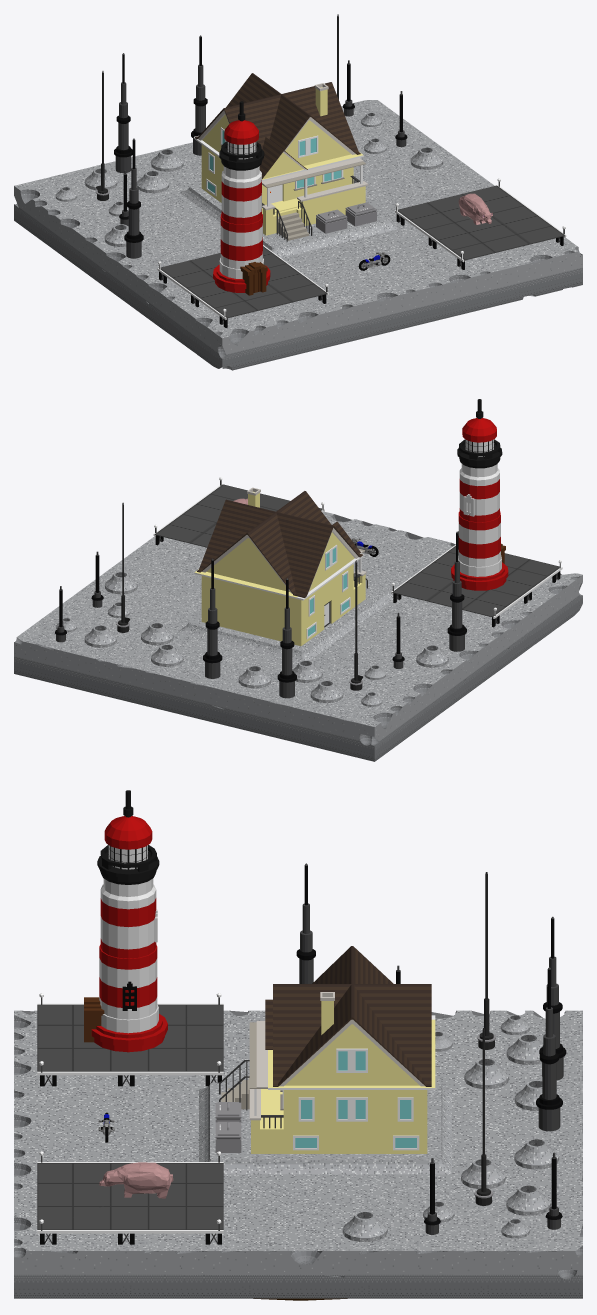
3 renders of one model, top to bottom at view 1: azimuth 30°, elevation 25°; view 2: azimuth 150°, elevation 25°; view 3: azimuth 270°, elevation 25°, orthographic. The views are drawn at different scales.
Parts seen in each view (by area): view 1: Cube.027, Cube.1555, OBJRANDOM_LIGHTHOUSE, Cube.026, Cube.025, Cube.028, Cylinder.021, Cylinder.020, Cylinder.017, ANIMAL_HIPOPOTAMO, Cube.029, Cube.030 (+4 smaller); view 2: Cube.027, Cube.1555, OBJRANDOM_LIGHTHOUSE, Cube.025, Cube.028, Cube.026, Cylinder.020, Cylinder.021, Cylinder.017, Cylinder.027, Cylinder.028, Cylinder.030 (+6 smaller); view 3: Cube.027, Cube.1555, OBJRANDOM_LIGHTHOUSE, Cube.026, Cube.025, Cube.028, Cylinder.017, ANIMAL_HIPOPOTAMO, Cylinder.020, Cylinder.021, Cylinder.031, Cylinder.033 (+7 smaller).
Part boxes in pixels (x1=…): Cube.027: x1=14, y1=100, x2=582, y2=370; Cube.1555: x1=193, y1=73, x2=368, y2=241; OBJRANDOM_LIGHTHOUSE: x1=213, y1=101, x2=270, y2=295; Cube.026: x1=395, y1=178, x2=566, y2=269; Cube.025: x1=157, y1=237, x2=328, y2=327; Cube.028: x1=180, y1=183, x2=398, y2=257; Cylinder.021: x1=124, y1=138, x2=143, y2=258; Cylinder.020: x1=114, y1=53, x2=132, y2=173; Cylinder.017: x1=191, y1=35, x2=207, y2=155; ANIMAL_HIPOPOTAMO: x1=458, y1=193, x2=492, y2=224; Cube.029: x1=316, y1=209, x2=347, y2=233; Cube.030: x1=345, y1=202, x2=376, y2=226; Cube.027: x1=14, y1=511, x2=582, y2=761; Cube.1555: x1=194, y1=487, x2=367, y2=645; OBJRANDOM_LIGHTHOUSE: x1=451, y1=399, x2=508, y2=590; Cube.025: x1=391, y1=544, x2=562, y2=627; Cube.028: x1=178, y1=584, x2=393, y2=661; Cube.026: x1=153, y1=477, x2=324, y2=547; Cylinder.020: x1=277, y1=578, x2=296, y2=698; Cylinder.021: x1=447, y1=531, x2=466, y2=651; Cylinder.017: x1=203, y1=558, x2=222, y2=678; Cylinder.027: x1=238, y1=665, x2=271, y2=688; Cylinder.028: x1=310, y1=680, x2=343, y2=703; Cylinder.030: x1=141, y1=622, x2=173, y2=645; Cube.027: x1=14, y1=1010, x2=582, y2=1298; Cube.1555: x1=219, y1=946, x2=435, y2=1153; OBJRANDOM_LIGHTHOUSE: x1=84, y1=790, x2=167, y2=1052; Cube.026: x1=37, y1=1151, x2=223, y2=1244; Cube.025: x1=37, y1=993, x2=223, y2=1086; Cube.028: x1=199, y1=1082, x2=451, y2=1174; Cylinder.017: x1=536, y1=967, x2=562, y2=1131; ANIMAL_HIPOPOTAMO: x1=99, y1=1162, x2=173, y2=1198; Cylinder.020: x1=539, y1=916, x2=566, y2=1080; Cylinder.021: x1=296, y1=863, x2=315, y2=983; Cylinder.031: x1=506, y1=1184, x2=550, y2=1215; Cylinder.033: x1=342, y1=1211, x2=387, y2=1241.
Size of the model in its own units: 4000 by 2532 by 4000.
Materials: 40 (4 with a texture image).
